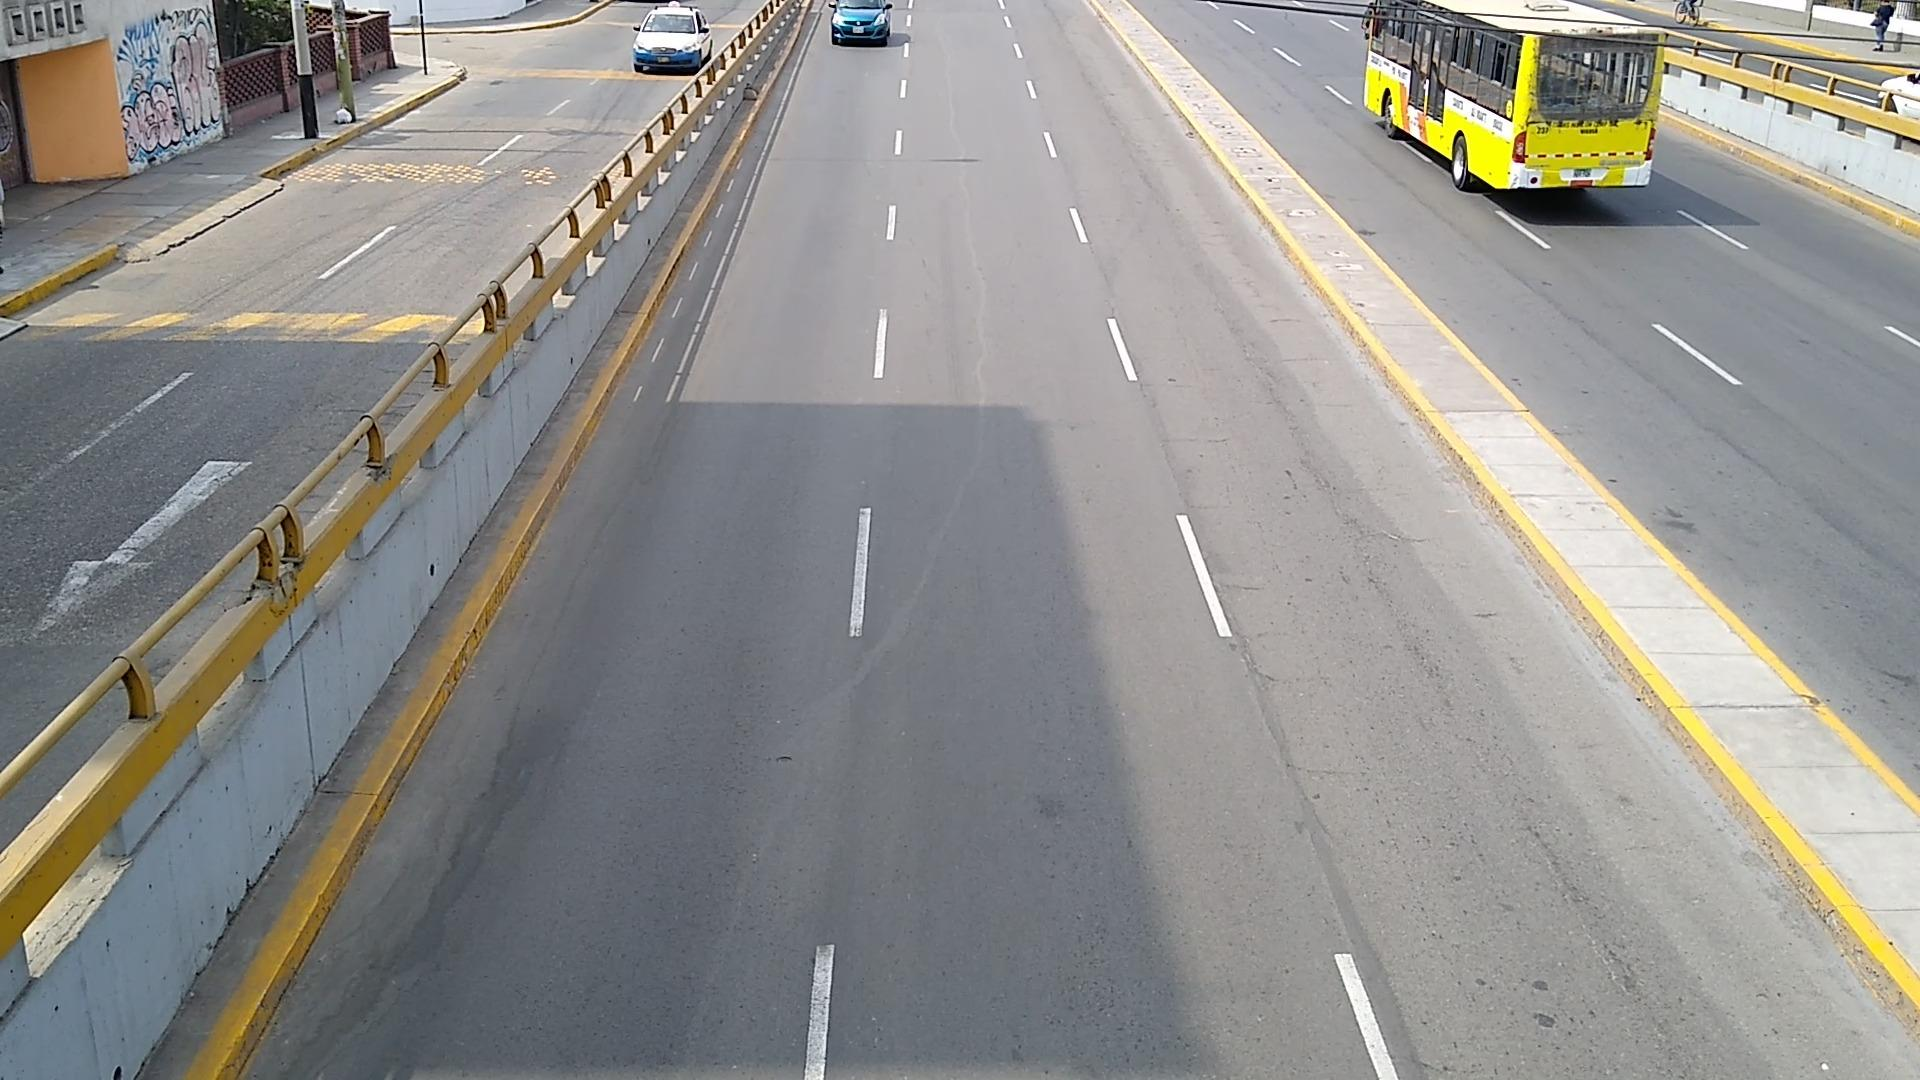bus: (1365, 0, 1665, 195)
car: (634, 4, 712, 70), (832, 0, 893, 45), (1883, 71, 1920, 119)
